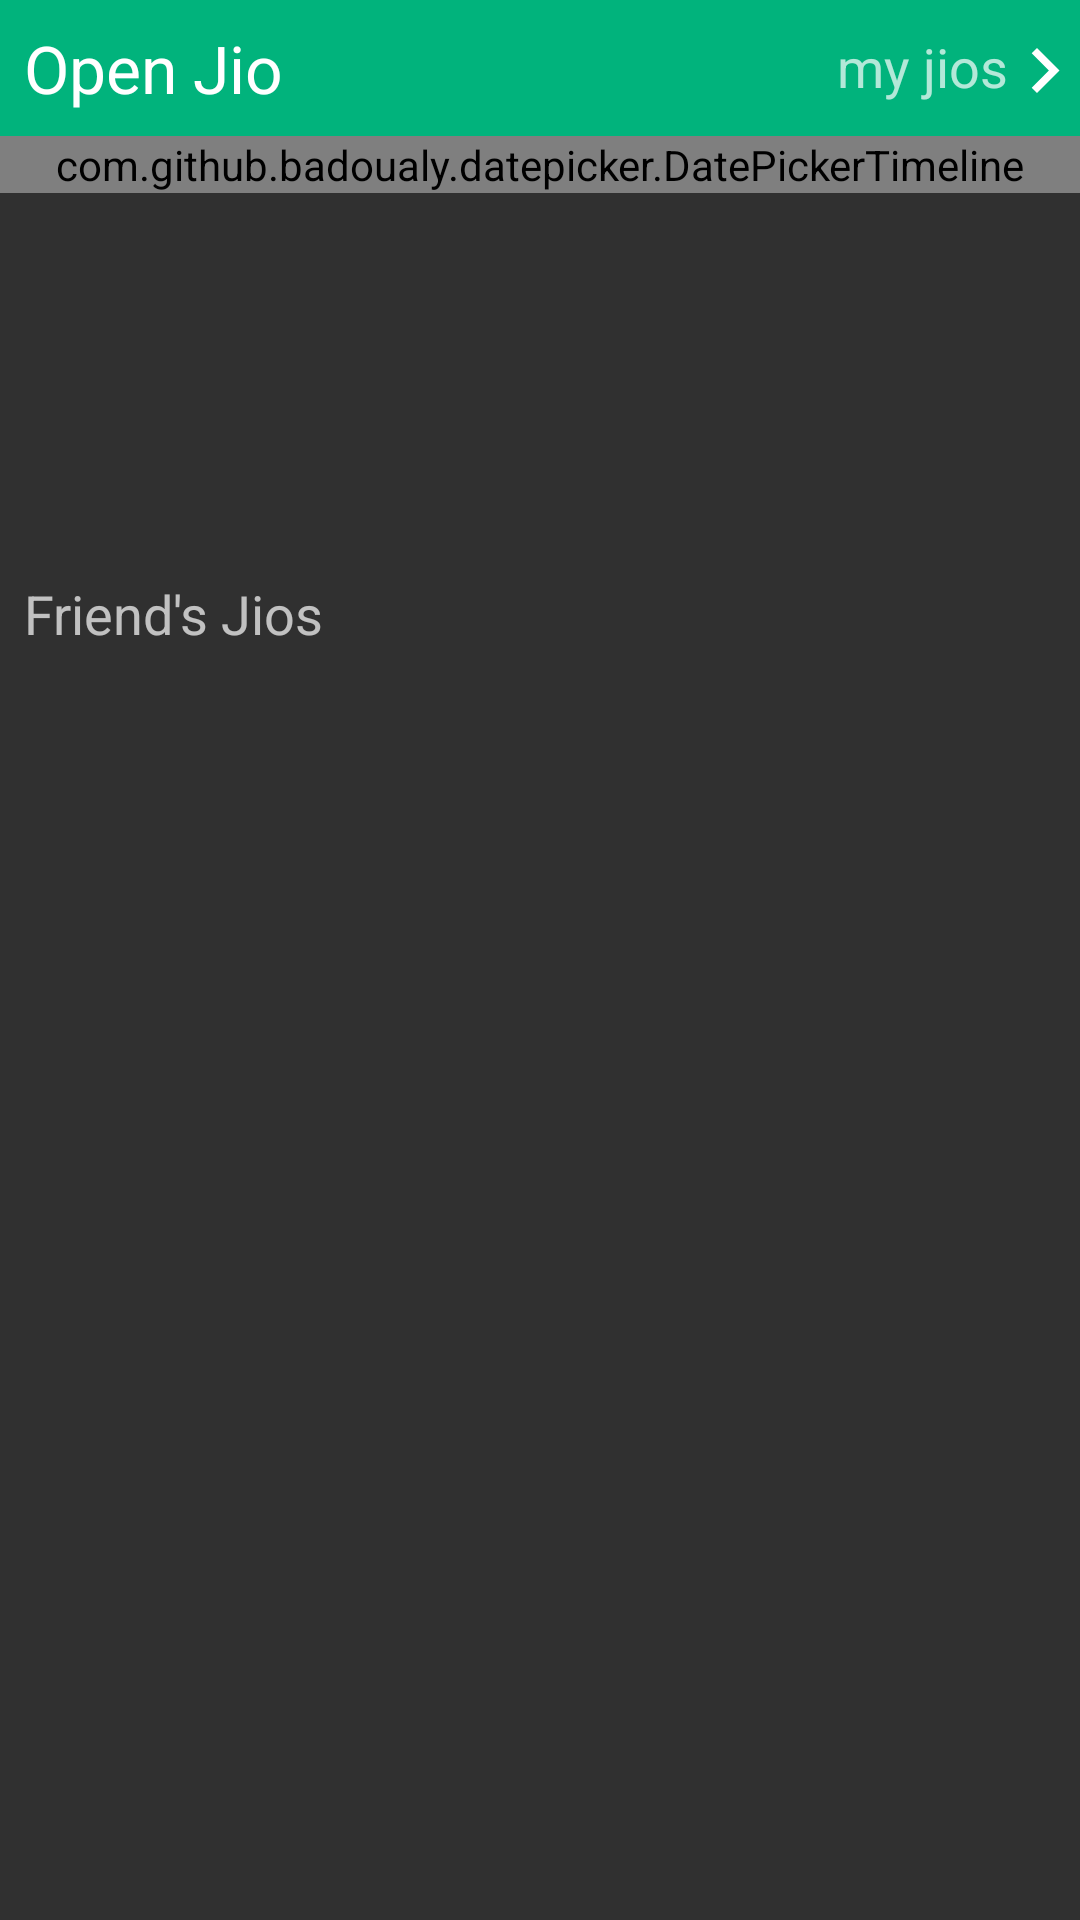

Icons on this 1080x1920 Android screen, each with its box as bbox=(x1, y1, x2, y2):
right arrow: bbox=(1032, 48, 1060, 93)
